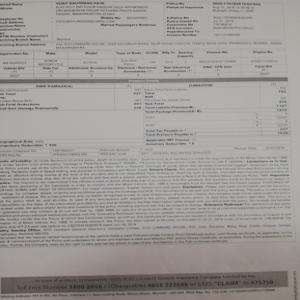table: (1, 78, 290, 141), (7, 45, 290, 77)
text: (52, 1, 265, 38)
